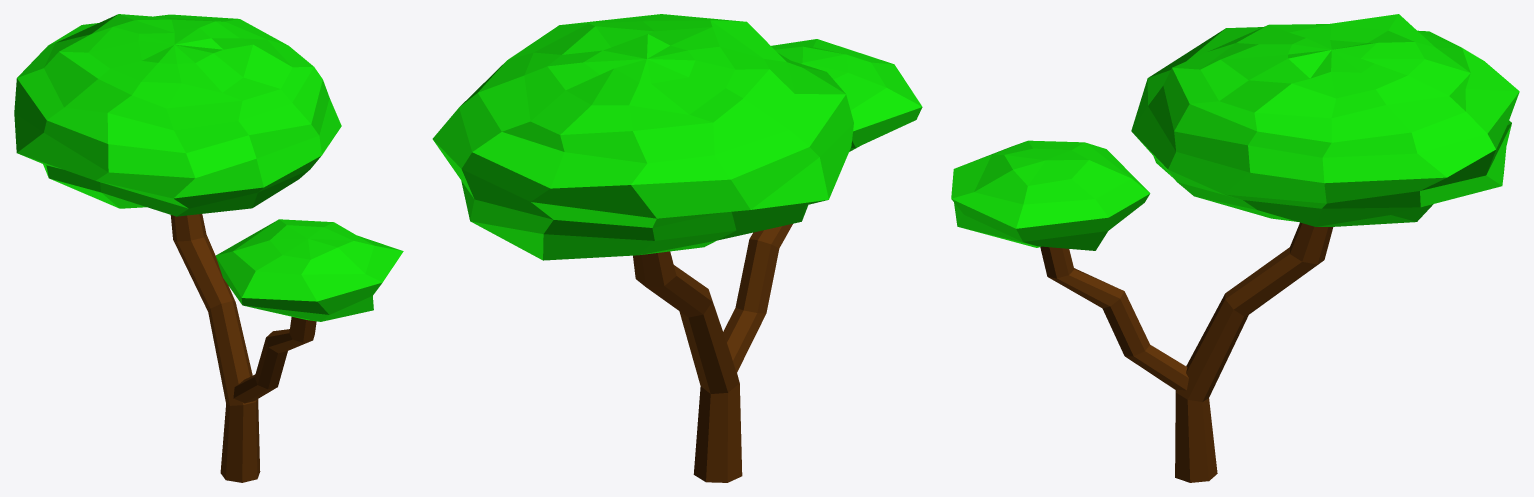
The model's file is Tree1.fbx.
3 views of the same model, side by side, from view 1: azimuth 30°, elevation 25°; view 2: azimuth 150°, elevation 25°; view 3: azimuth 270°, elevation 25° (orthographic). The views are drawn at different scales.
Visible parts, largest first — view 1: Sphere.001, Cylinder.001; view 2: Sphere.001, Cylinder.001; view 3: Sphere.001, Cylinder.001.
Boxes of the visible parts, x1=… form: Sphere.001: x1=14, y1=14, x2=403, y2=321; Cylinder.001: x1=170, y1=214, x2=316, y2=482; Sphere.001: x1=432, y1=14, x2=922, y2=260; Cylinder.001: x1=633, y1=224, x2=792, y2=482; Sphere.001: x1=951, y1=14, x2=1519, y2=250; Cylinder.001: x1=1040, y1=222, x2=1333, y2=482.
Size of the model in its own units: 362 by 463 by 564.
